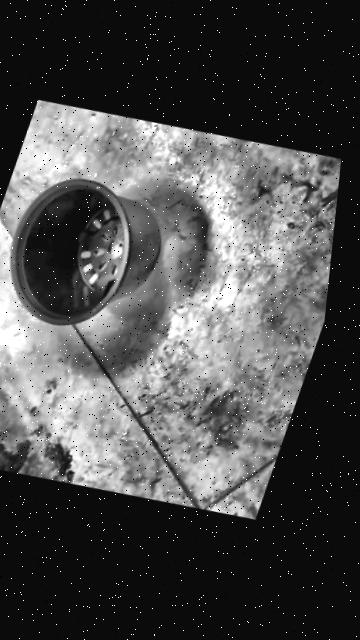pot: (0, 161, 183, 347)
